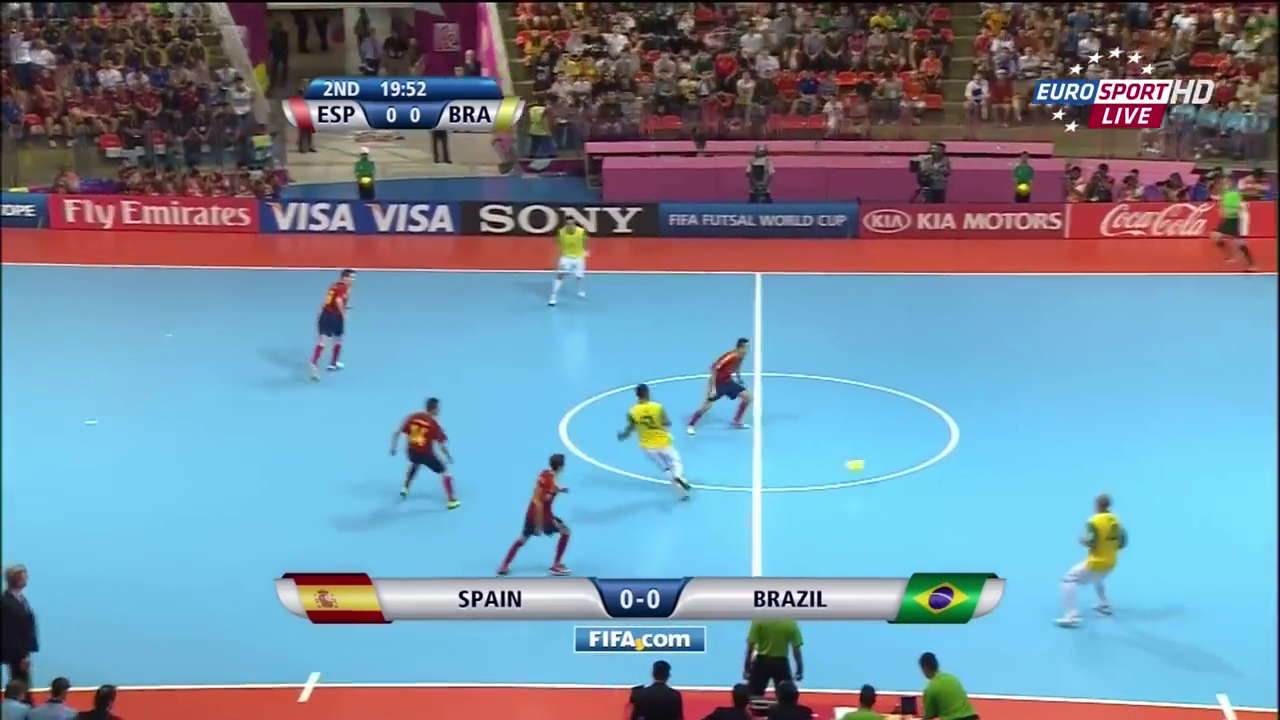ball: (843, 455, 865, 477)
person: (492, 444, 577, 580), (1054, 490, 1126, 629), (609, 383, 696, 496), (375, 394, 457, 513), (689, 334, 753, 437), (307, 265, 358, 384), (543, 217, 591, 307)
